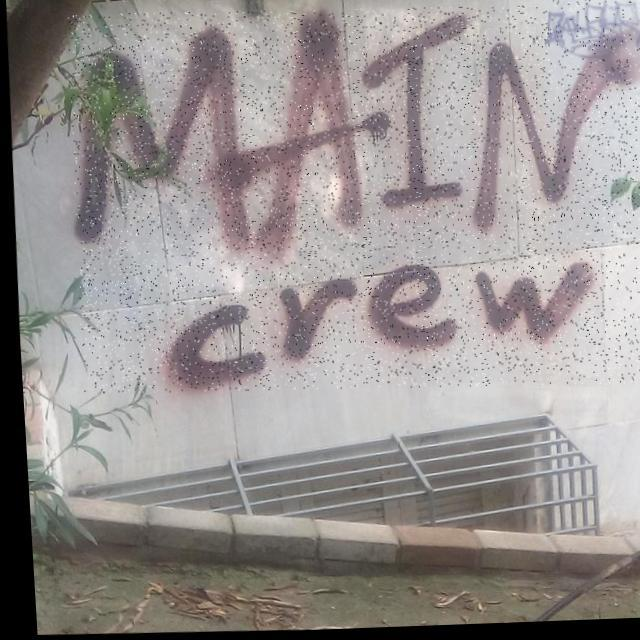-: (60, 0, 640, 403), (545, 0, 640, 71)
